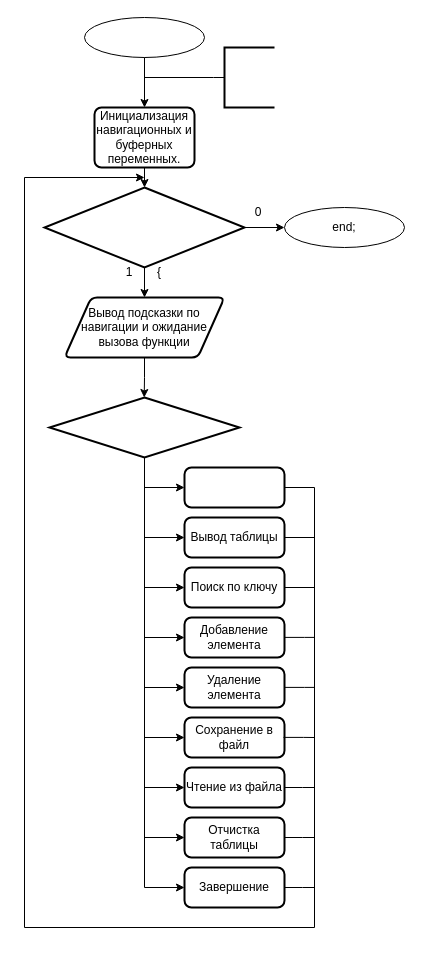
Image size: 422x953. Some labels were removed from this diagram. The centre of each missing label's shape, as x and y in pixels:
"start" belongs at pixel 144 37.
"switch: меню" belongs at pixel 144 427.
"Выполнение до получения сигнала окончания" belongs at pixel 144 227.
"Генерация хэш-таблицы" belongs at pixel 234 487.
"Подключение файлов с функциями по работе с хэш-таблицами" belongs at pixel 249 77.
